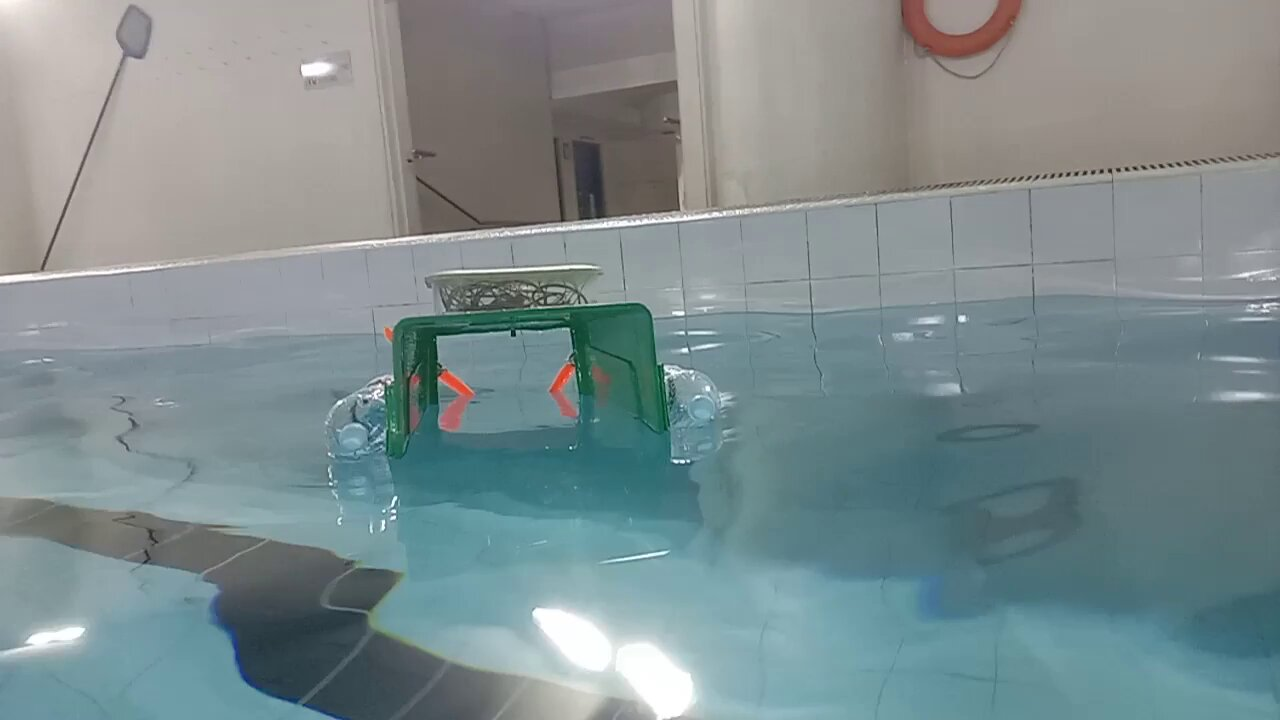drone: (319, 257, 724, 481)
